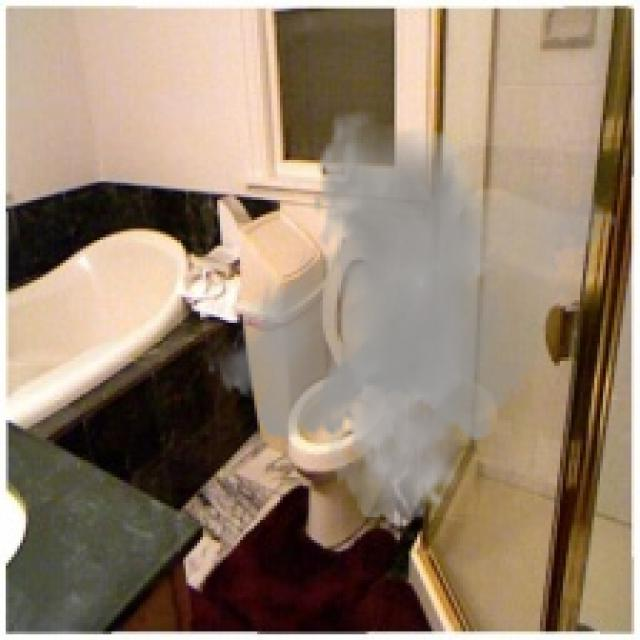smoke: (206, 108, 620, 526)
